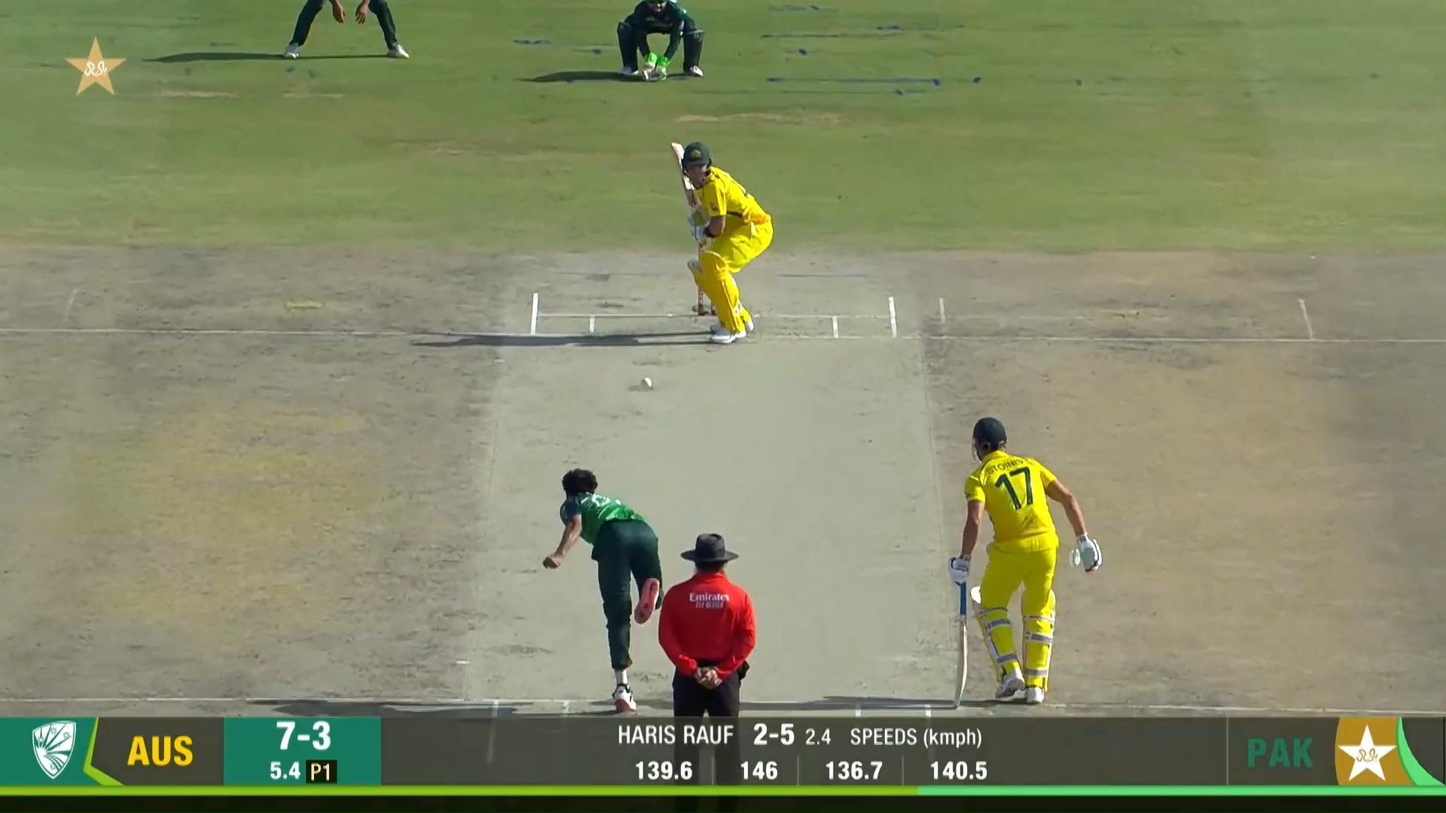BM 1: (668, 140, 775, 347)
BO: (542, 466, 666, 714)
